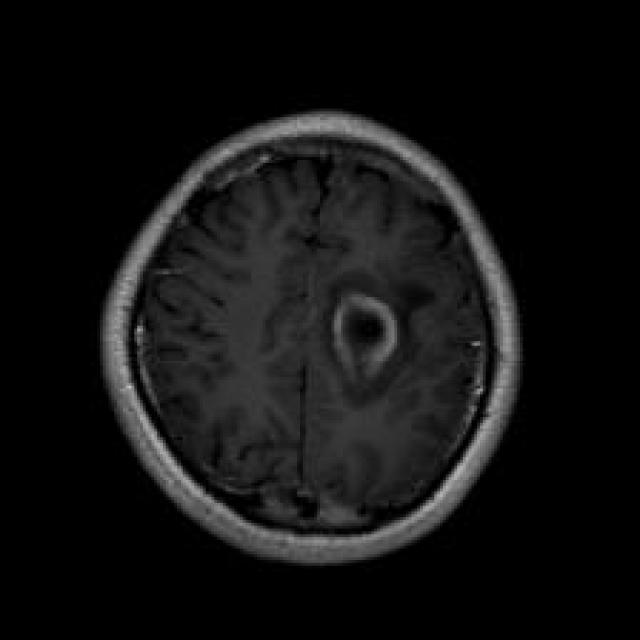glioma_tumor: (318, 265, 442, 417)
